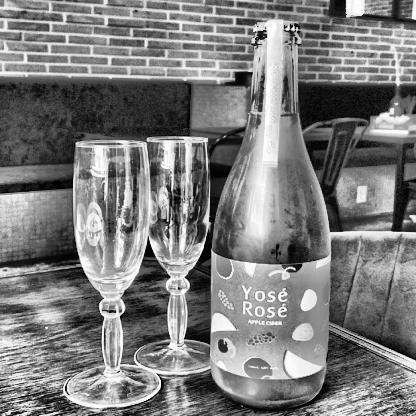yoserose: (209, 254, 328, 378)
